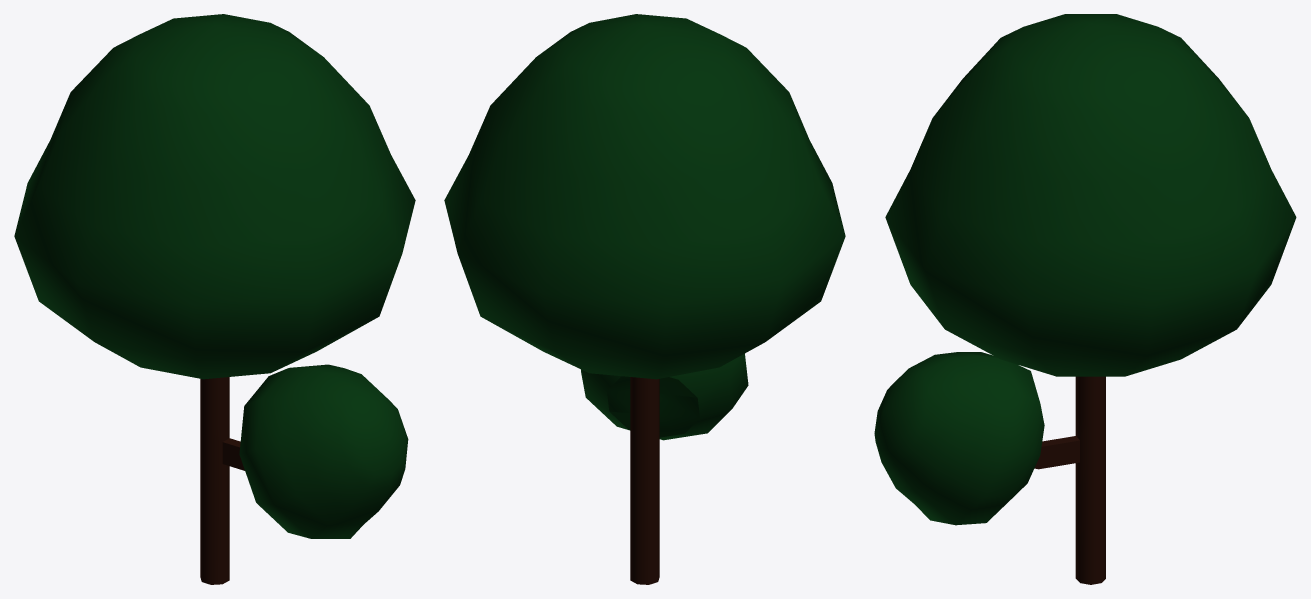
File: lehti2.fbx
3 views of the same model, side by side, from view 1: azimuth 30°, elevation 25°; view 2: azimuth 150°, elevation 25°; view 3: azimuth 270°, elevation 25° (orthographic).
Visible parts, largest first — view 1: lehti2; view 2: lehti2; view 3: lehti2.
Boxes of the visible parts, bbox=[...] form: lehti2: bbox=[14, 14, 415, 584]; lehti2: bbox=[444, 14, 845, 584]; lehti2: bbox=[874, 14, 1296, 584].
Size of the model in its own units: 741 by 1161 by 800.
